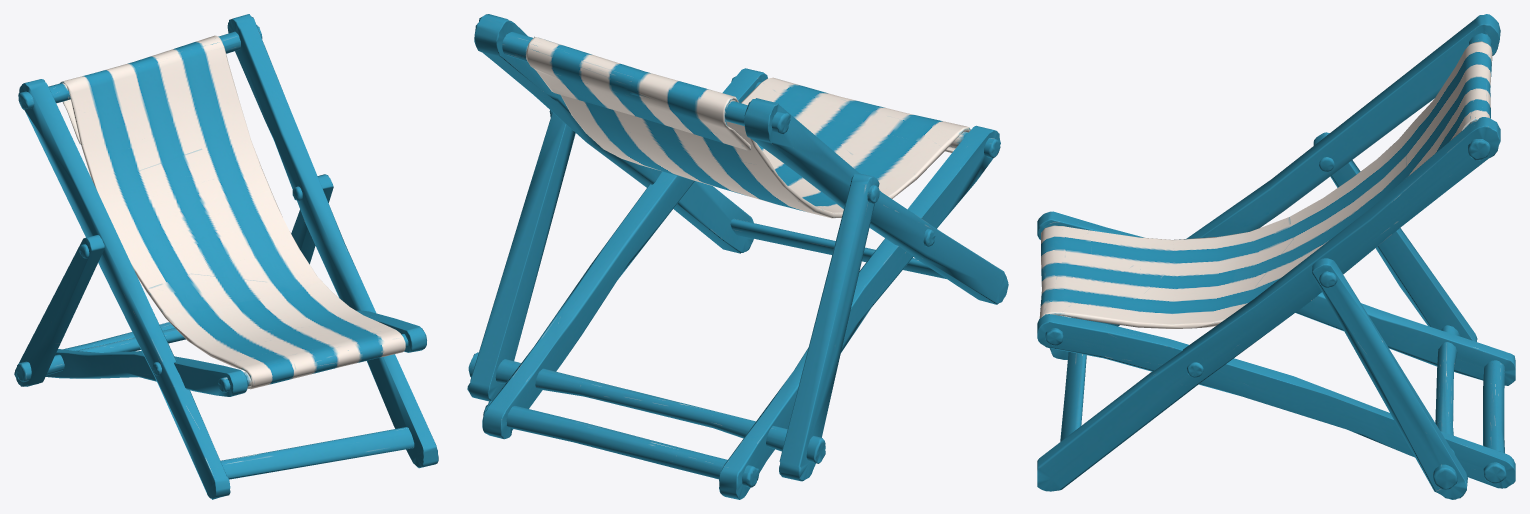
Rendered from furniture.glb.
3 views of the same model, side by side, from view 1: azimuth 30°, elevation 25°; view 2: azimuth 150°, elevation 25°; view 3: azimuth 270°, elevation 25° (orthographic). The views are drawn at different scales.
Bounding box in the file's own units: 0.7676 × 0.8594 × 1.
Materials: 1 (1 with a texture image).
